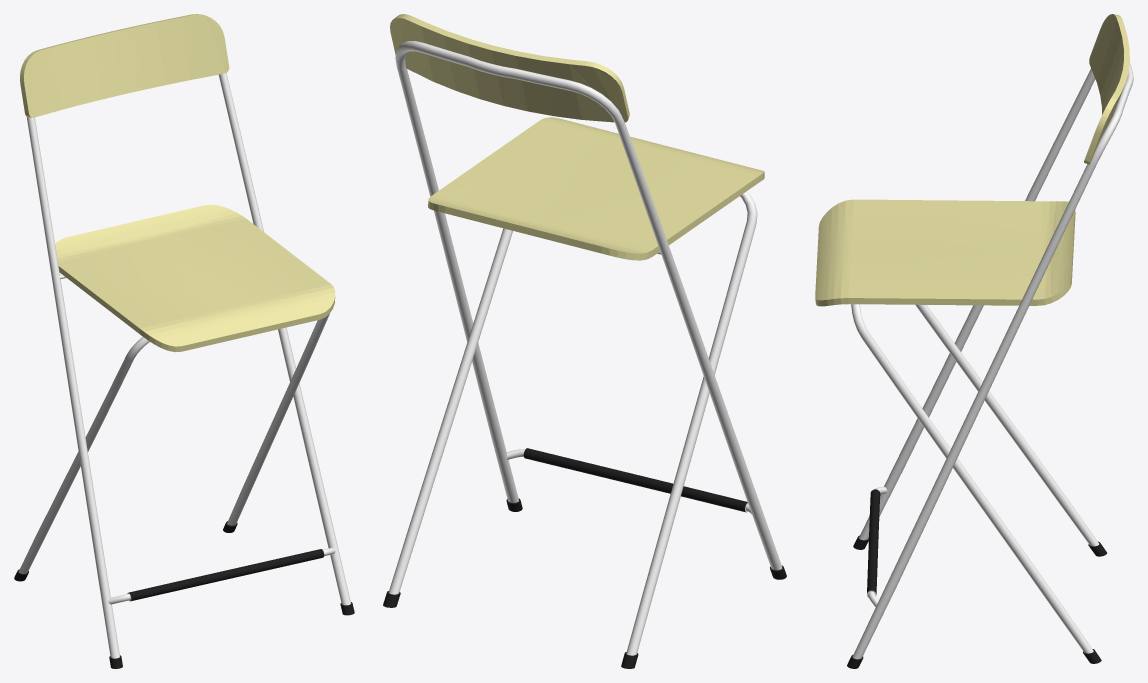
The model's file is IKEA-Franklin_Bar_Stool-3D.obj.
3 views of the same model, side by side, from view 1: azimuth 30°, elevation 25°; view 2: azimuth 150°, elevation 25°; view 3: azimuth 270°, elevation 25° (orthographic). The views are drawn at different scales.
Visible parts, largest first — view 1: Object01, Loft03; view 2: Object01, Loft03; view 3: Object01, Loft03.
Boxes of the visible parts, box(x1,y1,x2,y2) form: Object01: box(20, 14, 335, 352); Loft03: box(14, 73, 354, 668); Object01: box(390, 14, 764, 260); Loft03: box(383, 41, 786, 668); Object01: box(815, 14, 1129, 306); Loft03: box(847, 62, 1133, 668).
Size of the model in its own units: 1214 by 2509 by 1310.
